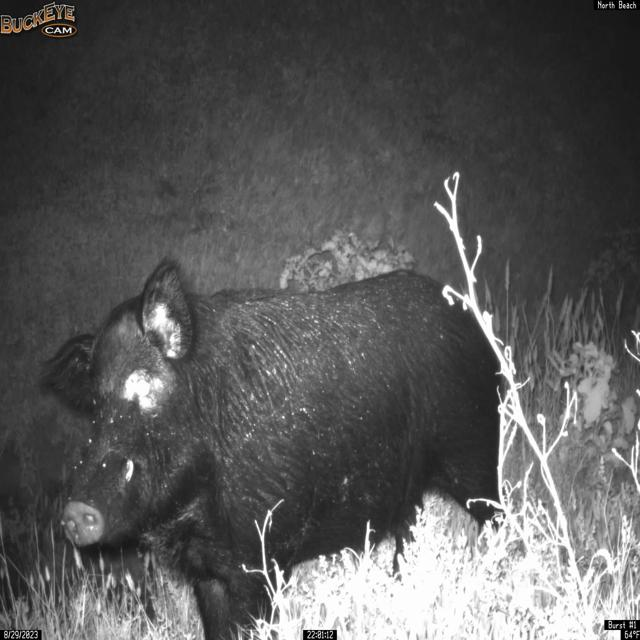pig: (37, 254, 509, 640)
